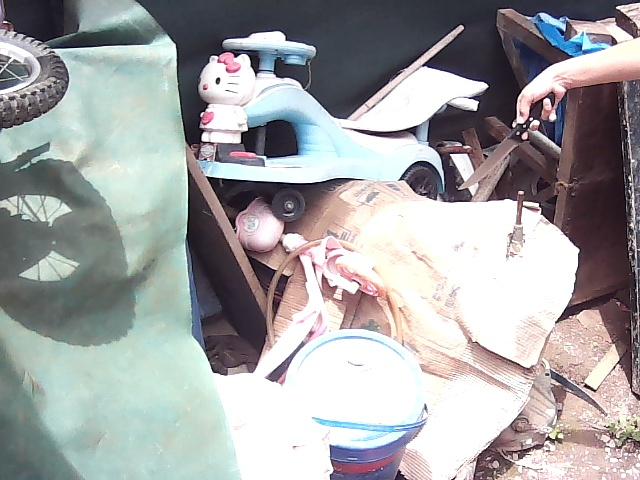cuchillo: (458, 119, 530, 194)
